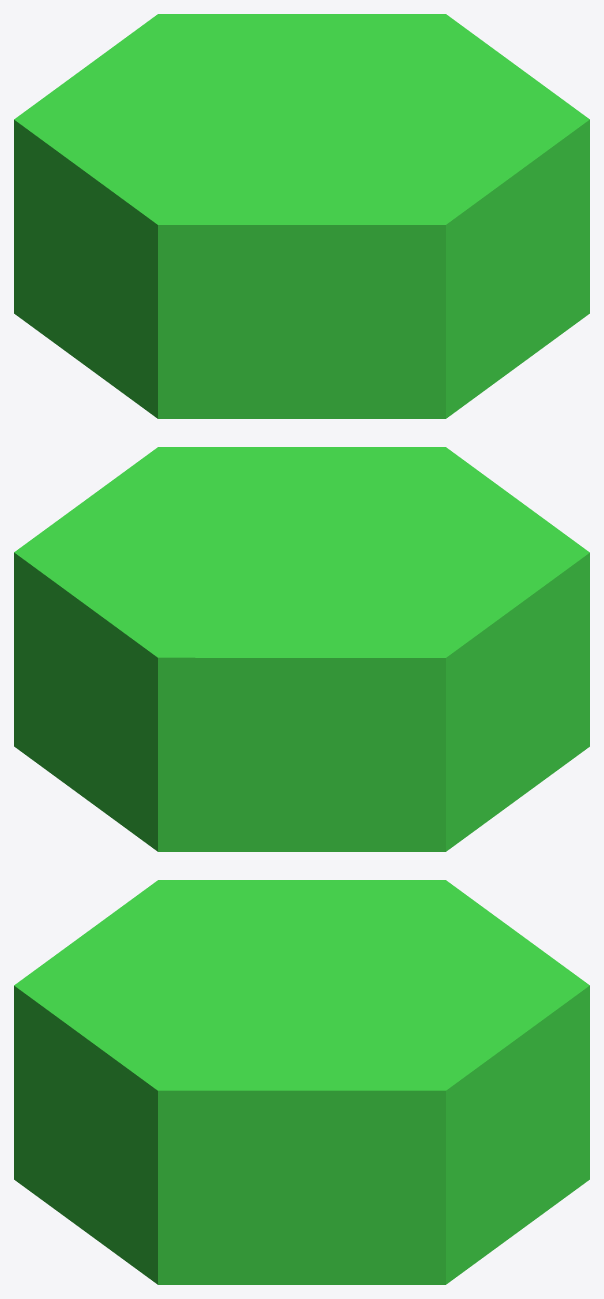
The model's file is NormalTile_Stage1.fbx.
3 renders of one model, top to bottom at view 1: azimuth 30°, elevation 25°; view 2: azimuth 150°, elevation 25°; view 3: azimuth 270°, elevation 25°, orthographic.
Parts seen in each view (by area): view 1: NormalTile; view 2: NormalTile; view 3: NormalTile.
Boxes of the visible parts, x1,y1,x2,y2 form: NormalTile: (14,14,589,418); NormalTile: (14,447,589,851); NormalTile: (14,880,589,1284).
Size of the model in its own units: 173 by 74.42 by 200.
